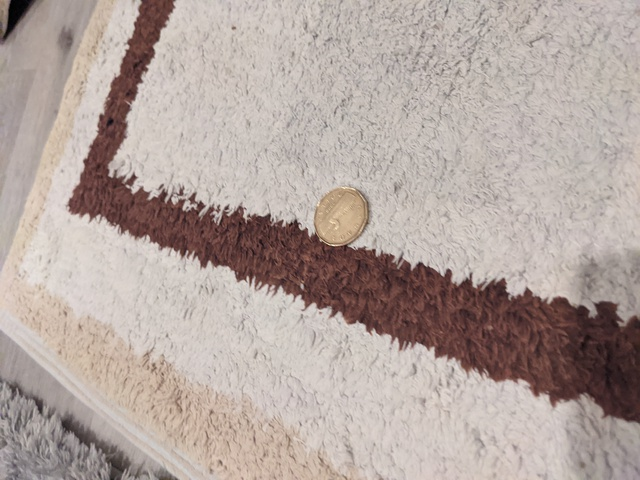loonie: (306, 178, 383, 249)
